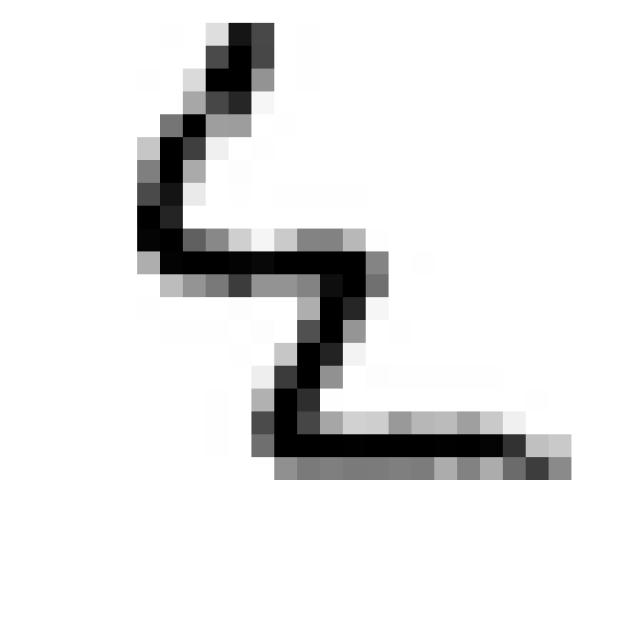4 -four-: (108, 11, 594, 497)
